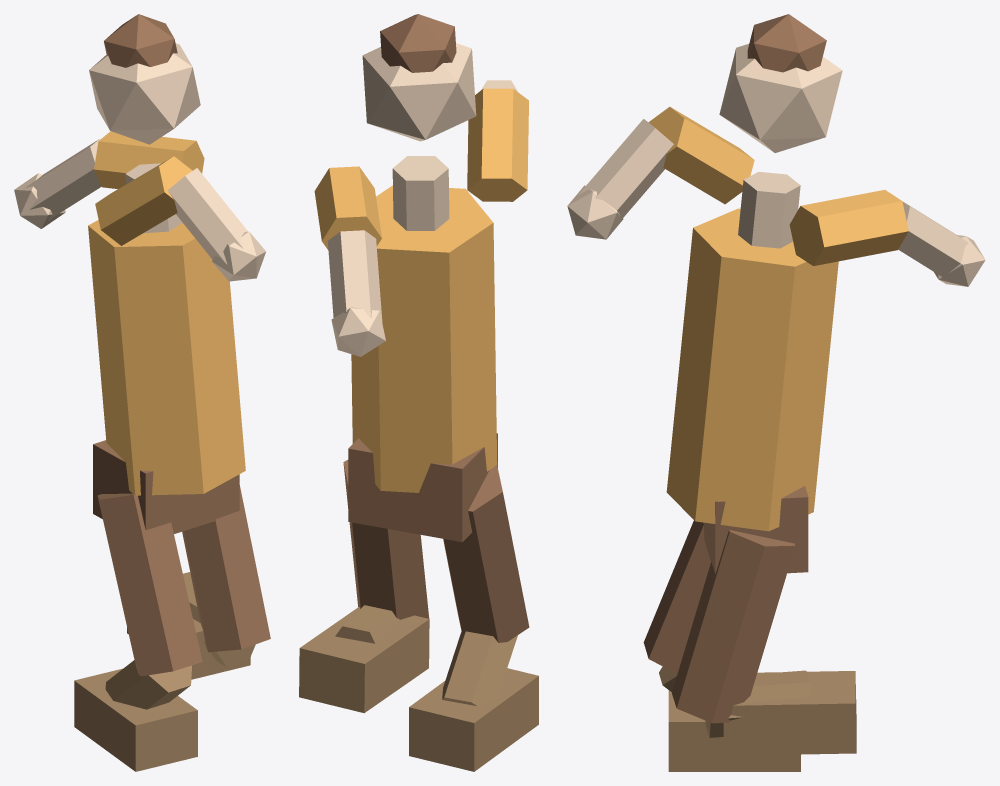
The model's file is pose_attack_1_07.glb.
The picture shows the model from 3 angles, left to right: view 1: azimuth 30°, elevation 25°; view 2: azimuth 150°, elevation 25°; view 3: azimuth 270°, elevation 25°; orthographic projection. The views are drawn at different scales.
Parts seen in each view (by area): view 1: pose; view 2: pose; view 3: pose.
Part boxes in pixels (x1=…): pose: x1=14, y1=14, x2=270, y2=771; pose: x1=299, y1=14, x2=538, y2=771; pose: x1=567, y1=14, x2=985, y2=771.
Bounding box in the file's own units: 0.3689 × 1.51 × 0.758.
